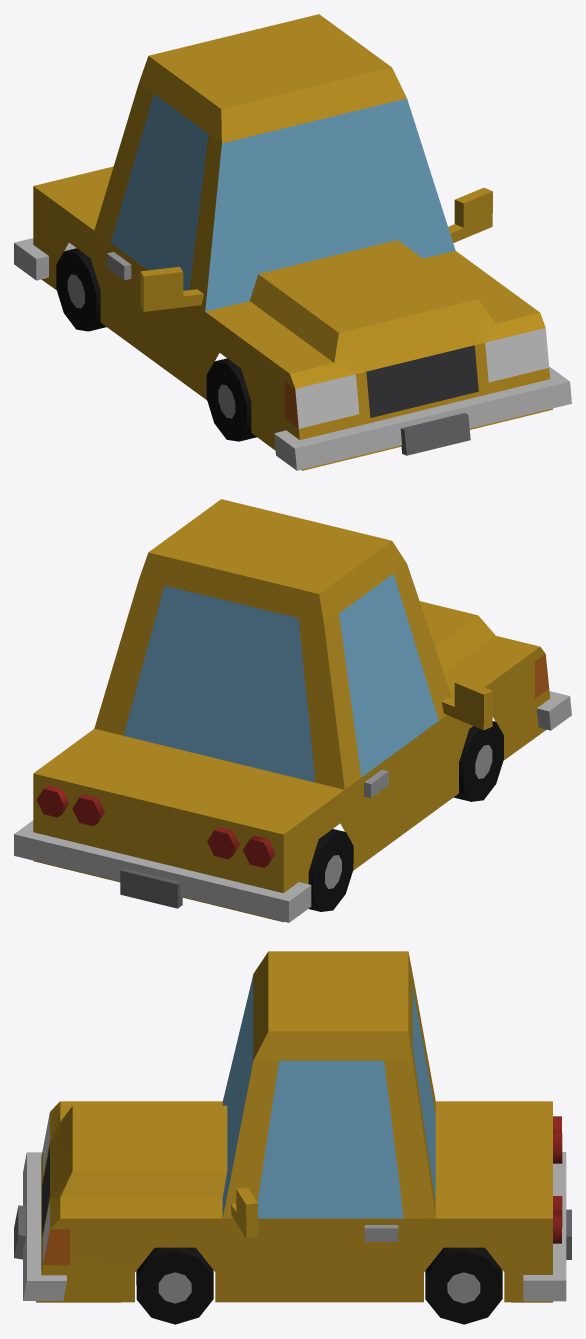
File: Car_02_yellow.fbx
3 views of the same model, one above another, from view 1: azimuth 30°, elevation 25°; view 2: azimuth 150°, elevation 25°; view 3: azimuth 270°, elevation 25° (orthographic). The views are drawn at different scales.
Visible parts, largest first — view 1: Car_02_yellow; view 2: Car_02_yellow; view 3: Car_02_yellow.
Part boxes in pixels (x1=…): Car_02_yellow: x1=14, y1=14, x2=571, y2=470; Car_02_yellow: x1=14, y1=499, x2=571, y2=922; Car_02_yellow: x1=14, y1=951, x2=571, y2=1324.
Size of the model in its own units: 60.1 by 46.79 by 86.64.
